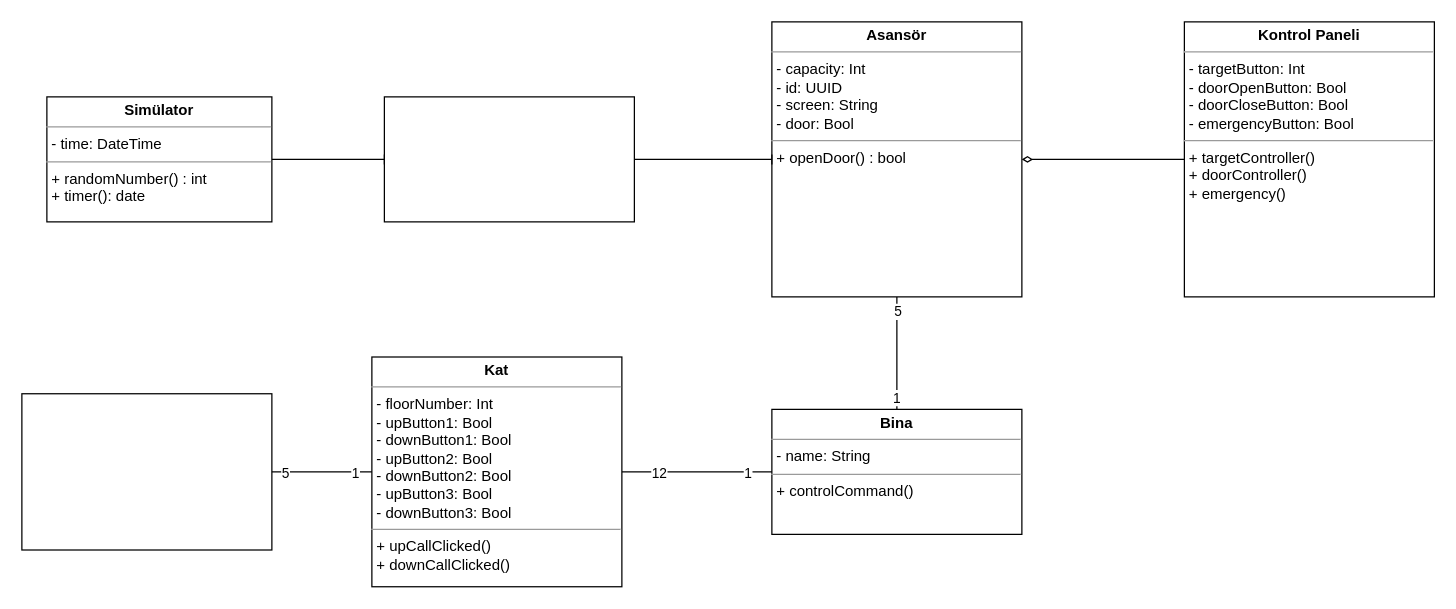
Image size: 1456x609. Some labels were removed from this diagram. Here are the shapes that lost their labels. From the top down, the centre of each, then its label:
the point at 508,159: Programlayıcı + pressButton() : void + callElevator(): void
the point at 146,471: Kapı - ring: Bool - upSignal: Bool - downSignal: Bool + ringBell()
